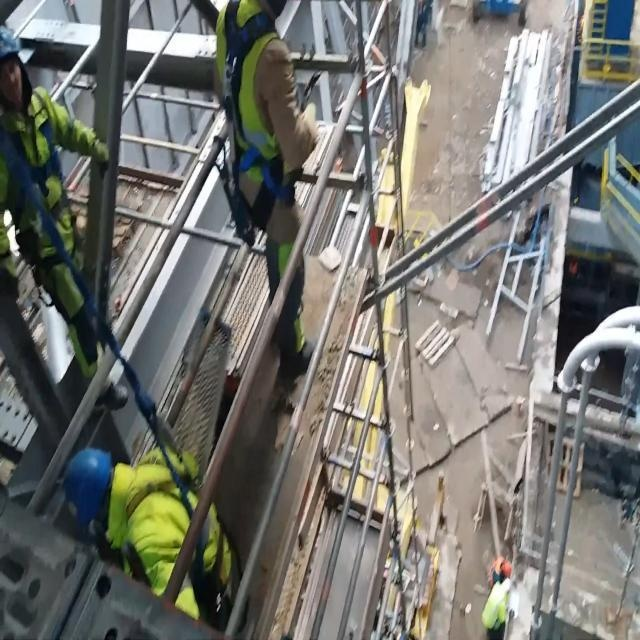Arnes_seguridad: (213, 0, 295, 246), (113, 445, 228, 584), (0, 91, 82, 281)
